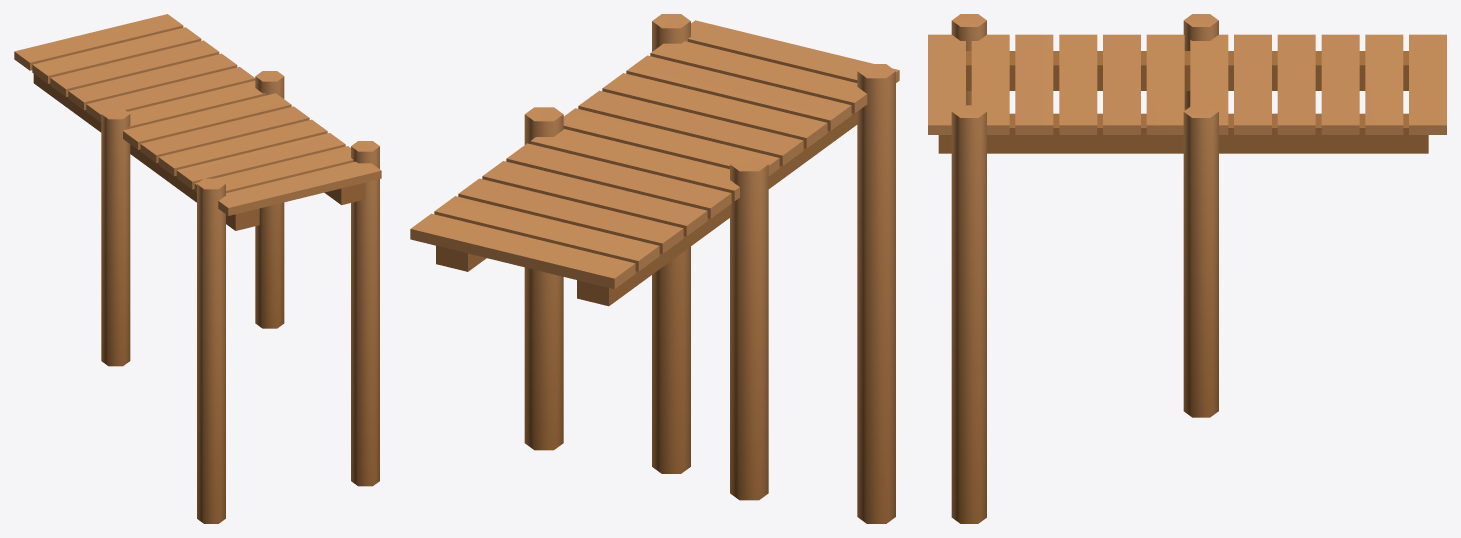
The model's file is Harbor.fbx.
The picture shows the model from 3 angles, left to right: view 1: azimuth 30°, elevation 25°; view 2: azimuth 150°, elevation 25°; view 3: azimuth 270°, elevation 25°; orthographic projection. The views are drawn at different scales.
Visible parts, largest first — view 1: Harbor; view 2: Harbor; view 3: Harbor.
Part boxes in pixels (x1,y1,x2,y2): Harbor: (14, 14, 381, 523); Harbor: (410, 14, 899, 523); Harbor: (928, 14, 1446, 523).
Bounding box in the file's own units: 181 × 382 × 330.
